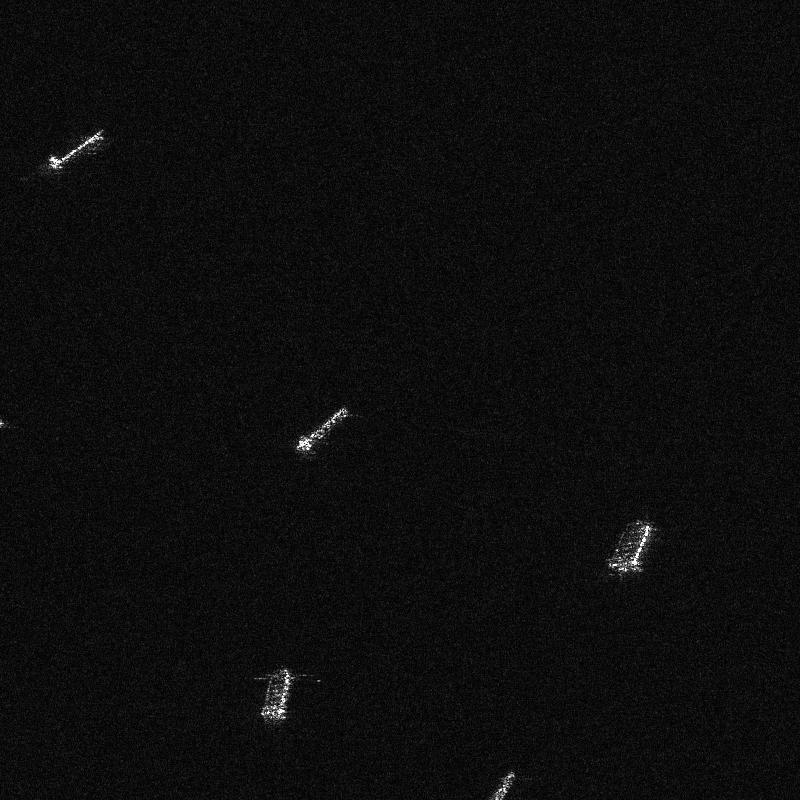ship: (297, 407, 348, 452), (48, 129, 104, 169), (609, 520, 652, 571), (260, 668, 292, 720), (490, 770, 516, 799)
